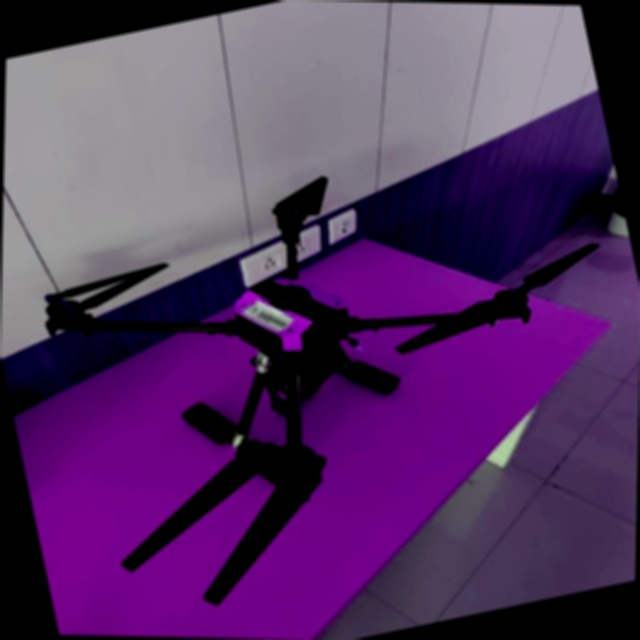quadcopter: (0, 52, 640, 640)
